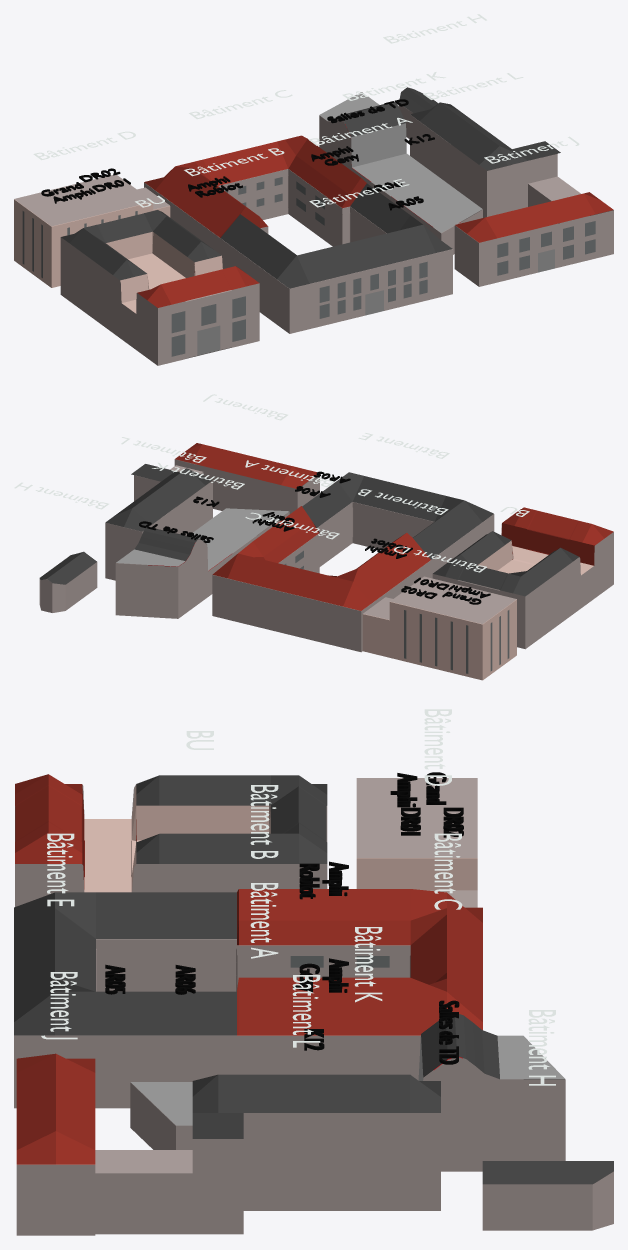
The model's file is planfac14.glb.
3 views of the same model, one above another, from view 1: azimuth 30°, elevation 25°; view 2: azimuth 150°, elevation 25°; view 3: azimuth 270°, elevation 25° (orthographic). The views are drawn at different scales.
Visible parts, largest first — view 1: toits, Bâtiment principal, Cube.001, Cube.005, Cube.006, Cube, Cube.004, Roblot; view 2: toits, Bâtiment principal, Cube, Cube.004, Cube.001, Cube.006, Cube.005, Cube.007, Roblot, GA; view 3: toits, Cube.006, Bâtiment principal, Cube.004, Cube.001, Cube.007, Cube.005, Cube, Roblot, GA, TD, E (+9 smaller).
Part boxes in pixels (left/top/right/bottom): toits: left=14, top=87, right=613, bottom=313; Bâtiment principal: left=144, top=169, right=452, bottom=333; Cube.001: left=60, top=237, right=259, bottom=365; Cube.005: left=454, top=210, right=613, bottom=286; Cube.006: left=410, top=114, right=589, bottom=223; Cube: left=14, top=199, right=170, bottom=287; Cube.004: left=319, top=115, right=482, bottom=254; Roblot: left=188, top=176, right=242, bottom=197; toits: left=39, top=443, right=613, bottom=624; Bâtiment principal: left=212, top=502, right=494, bottom=652; Cube: left=362, top=599, right=516, bottom=680; Cube.004: left=115, top=511, right=289, bottom=618; Cube.001: left=432, top=524, right=613, bottom=649; Cube.006: left=105, top=465, right=212, bottom=580; Cube.005: left=174, top=459, right=319, bottom=513; Cube.007: left=39, top=562, right=97, bottom=612; Roblot: left=365, top=538, right=412, bottom=558; GA: left=442, top=585, right=490, bottom=604; toits: left=14, top=774, right=613, bottom=1184; Cube.006: left=89, top=1113, right=440, bottom=1234; Bâtiment principal: left=14, top=939, right=420, bottom=1108; Cube.004: left=130, top=1057, right=565, bottom=1171; Cube.001: left=15, top=785, right=327, bottom=906; Cube.007: left=482, top=1171, right=613, bottom=1230; Cube.005: left=16, top=1164, right=95, bottom=1235; Cube: left=356, top=858, right=477, bottom=890; Roblot: left=299, top=861, right=348, bottom=899; GA: left=390, top=772, right=446, bottom=807; TD: left=439, top=1000, right=459, bottom=1064; E: left=47, top=833, right=74, bottom=906.
Size of the model in its own units: 18.21 by 4.08 by 12.02.
